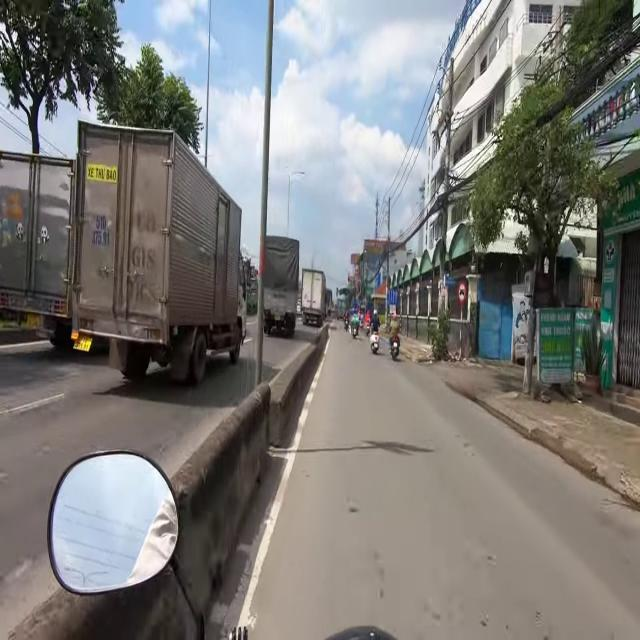bien_vang: (72, 331, 94, 352)
